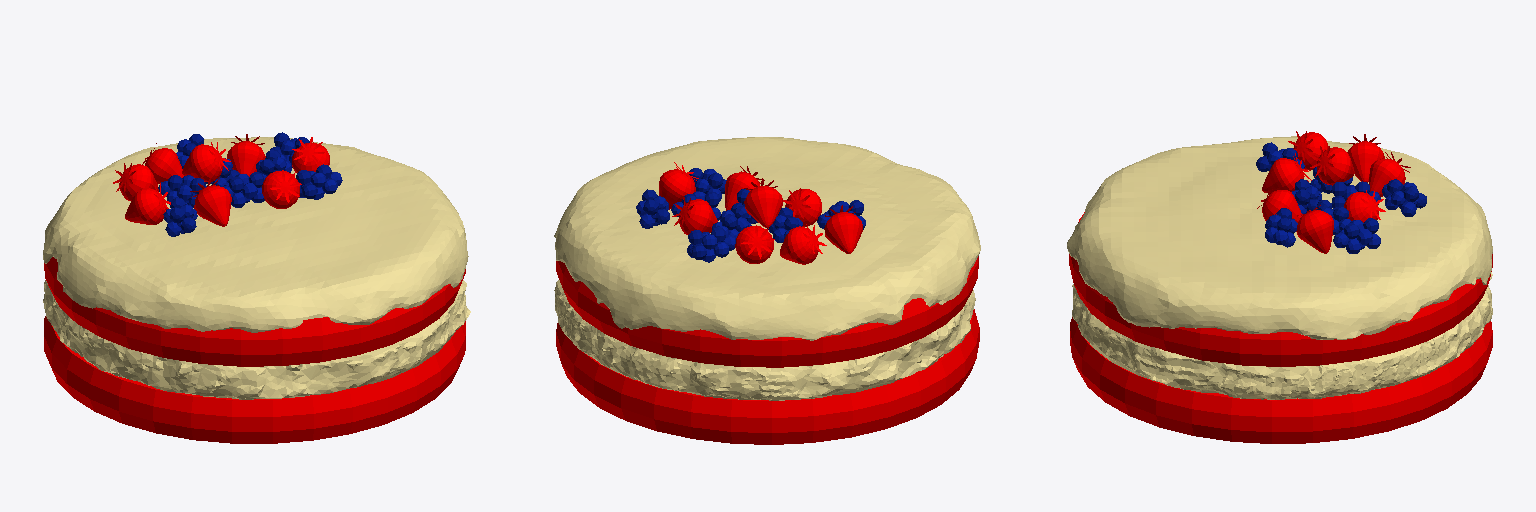
The model's file is cake.obj.
3 renders of one model, left to right at view 1: azimuth 30°, elevation 25°; view 2: azimuth 150°, elevation 25°; view 3: azimuth 270°, elevation 25°, orthographic.
Size of the model in its own units: 2.07 by 1.09 by 2.07.